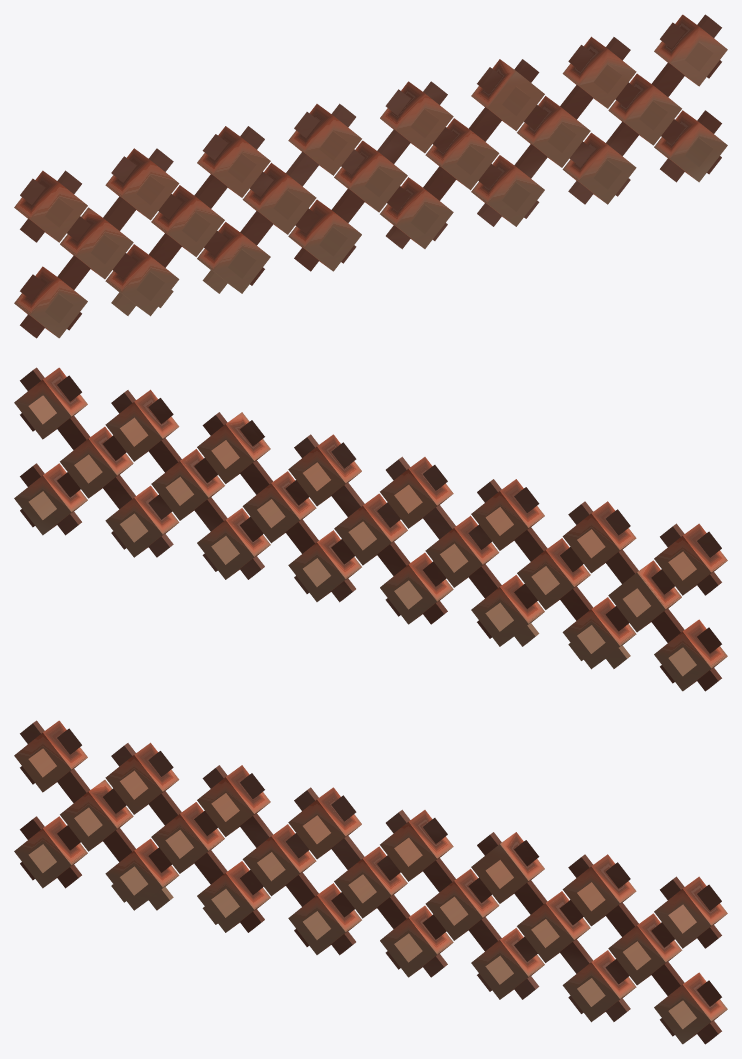
Rendered from Deco.fbx.
3 views of the same model, one above another, from view 1: azimuth 30°, elevation 25°; view 2: azimuth 150°, elevation 25°; view 3: azimuth 330°, elevation 25° (orthographic).
Visible parts, largest first — view 1: Deco; view 2: Deco; view 3: Deco.
Part boxes in pixels (box(x1,y1,x2,y2)): Deco: box(14, 14, 727, 338); Deco: box(14, 367, 727, 691); Deco: box(14, 720, 727, 1044).
Bounding box in the file's own units: 491 × 106 × 20.2.
